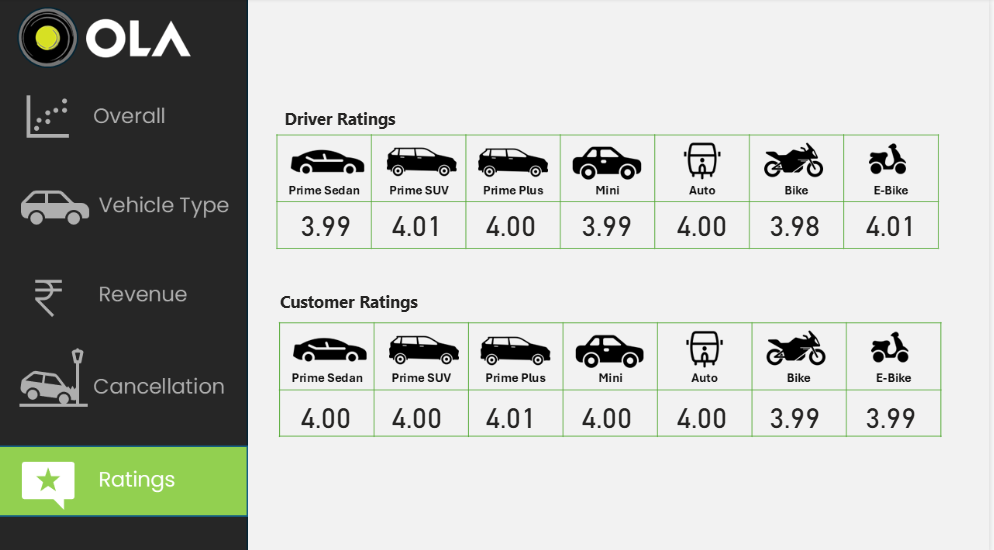

The page's visual inventory and layout, read from the dashboard file:
{"tool":"powerbi","page":{"name":"Ratings","canvas":[1280,720],"ordinal":4},"visuals":[{"type":"actionButton","box":[0,221.1,324.6,93.5],"z":0},{"type":"actionButton","box":[0,337.3,324.6,93.5],"z":1000},{"type":"actionButton","box":[0,449.3,324.6,93.5],"z":2000},{"type":"actionButton","box":[0,104.9,324.6,93.5],"z":3000},{"type":"card","fields":{"Values":["Avg(Bookings.Driver_Ratings)"]},"box":[372.9,267.1,102.5,48.7],"z":4000},{"type":"card","fields":{"Values":["Avg(Bookings.Driver_Ratings)"]},"box":[490.5,267.1,102.5,48.7],"z":5000},{"type":"card","fields":{"Values":["Avg(Bookings.Driver_Ratings)"]},"box":[611.4,267.1,102.5,48.7],"z":6000},{"type":"card","fields":{"Values":["Avg(Bookings.Driver_Ratings)"]},"box":[735.7,267.1,102.5,48.7],"z":7000},{"type":"card","fields":{"Values":["Avg(Bookings.Driver_Ratings)"]},"box":[858.4,267.1,102.5,48.7],"z":8000},{"type":"card","fields":{"Values":["Avg(Bookings.Driver_Ratings)"]},"box":[977.6,267.1,102.5,48.7],"z":9000},{"type":"card","fields":{"Values":["Avg(Bookings.Driver_Ratings)"]},"box":[1101.9,267.1,102.5,48.7],"z":10000},{"type":"textbox","box":[359.5,136.1,154.5,38.6],"z":11000},{"type":"textbox","box":[359.5,371.2,198.2,47],"z":12000},{"type":"card","fields":{"Values":["Avg(Bookings.Customer_Rating)"]},"box":[372.9,515.7,102.5,45.4],"z":12001},{"type":"card","fields":{"Values":["Avg(Bookings.Customer_Rating)"]},"box":[490.5,515.7,102.5,45.4],"z":12002},{"type":"card","fields":{"Values":["Avg(Bookings.Customer_Rating)"]},"box":[611.4,515.7,102.5,45.4],"z":12003},{"type":"card","fields":{"Values":["Avg(Bookings.Customer_Rating)"]},"box":[735.7,515.7,102.5,45.4],"z":12004},{"type":"card","fields":{"Values":["Avg(Bookings.Customer_Rating)"]},"box":[858.4,515.7,102.5,45.4],"z":12005},{"type":"card","fields":{"Values":["Avg(Bookings.Customer_Rating)"]},"box":[977.6,515.7,102.5,45.4],"z":12006},{"type":"card","fields":{"Values":["Avg(Bookings.Customer_Rating)"]},"box":[1101.9,515.7,102.5,45.4],"z":12007}]}

Visuals, with their boxes on the page's 1280x720 design canvas (x1, y1, x2, y2). These are canvas units, not pixel positions in the 994x550 screenshot, which may show the page scaled, cropped or inside an application window:
actionButton: (0,221,325,315)
actionButton: (0,337,325,431)
actionButton: (0,449,325,543)
actionButton: (0,105,325,198)
card - Avg(Bookings.Driver_Ratings): (373,267,475,316)
card - Avg(Bookings.Driver_Ratings): (490,267,593,316)
card - Avg(Bookings.Driver_Ratings): (611,267,714,316)
card - Avg(Bookings.Driver_Ratings): (736,267,838,316)
card - Avg(Bookings.Driver_Ratings): (858,267,961,316)
card - Avg(Bookings.Driver_Ratings): (978,267,1080,316)
card - Avg(Bookings.Driver_Ratings): (1102,267,1204,316)
textbox: (360,136,514,175)
textbox: (360,371,558,418)
card - Avg(Bookings.Customer_Rating): (373,516,475,561)
card - Avg(Bookings.Customer_Rating): (490,516,593,561)
card - Avg(Bookings.Customer_Rating): (611,516,714,561)
card - Avg(Bookings.Customer_Rating): (736,516,838,561)
card - Avg(Bookings.Customer_Rating): (858,516,961,561)
card - Avg(Bookings.Customer_Rating): (978,516,1080,561)
card - Avg(Bookings.Customer_Rating): (1102,516,1204,561)
